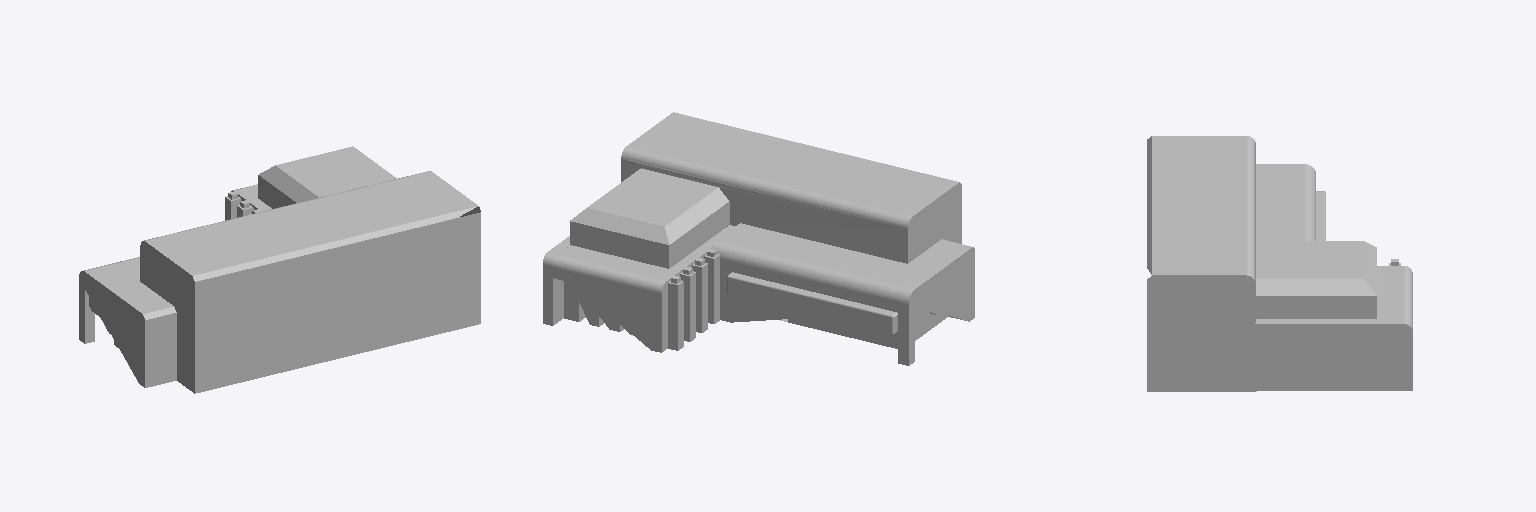
The model's file is FachadaConsultorio.obj.
3 renders of one model, left to right at view 1: azimuth 30°, elevation 25°; view 2: azimuth 150°, elevation 25°; view 3: azimuth 270°, elevation 25°, orthographic.
Visible parts, largest first — view 1: hospital.3.0_Cuerpo_03, hospital.3.0_Cuerpo_03.006; view 2: hospital.3.0_Cuerpo_03, hospital.3.0_Cuerpo_03.006, hospital.3.0_Cuerpo_03.004, hospital.3.0_Cuerpo_03.001, hospital.3.0_Cuerpo_03.002; view 3: hospital.3.0_Cuerpo_03, hospital.3.0_Cuerpo_03.001, hospital.3.0_Cuerpo_03.006.
Part boxes in pixels (left/top/right/bottom): hospital.3.0_Cuerpo_03: left=79, top=171, right=480, bottom=393; hospital.3.0_Cuerpo_03.006: left=258, top=146, right=396, bottom=208; hospital.3.0_Cuerpo_03: left=552, top=112, right=974, bottom=365; hospital.3.0_Cuerpo_03.006: left=570, top=168, right=729, bottom=268; hospital.3.0_Cuerpo_03.004: left=788, top=317, right=897, bottom=348; hospital.3.0_Cuerpo_03.001: left=543, top=236, right=572, bottom=325; hospital.3.0_Cuerpo_03.002: left=564, top=281, right=631, bottom=334; hospital.3.0_Cuerpo_03: left=1147, top=136, right=1412, bottom=391; hospital.3.0_Cuerpo_03.001: left=1255, top=318, right=1412, bottom=390; hospital.3.0_Cuerpo_03.006: left=1256, top=241, right=1376, bottom=318.
Size of the model in its own units: 100 by 34.97 by 72.53.